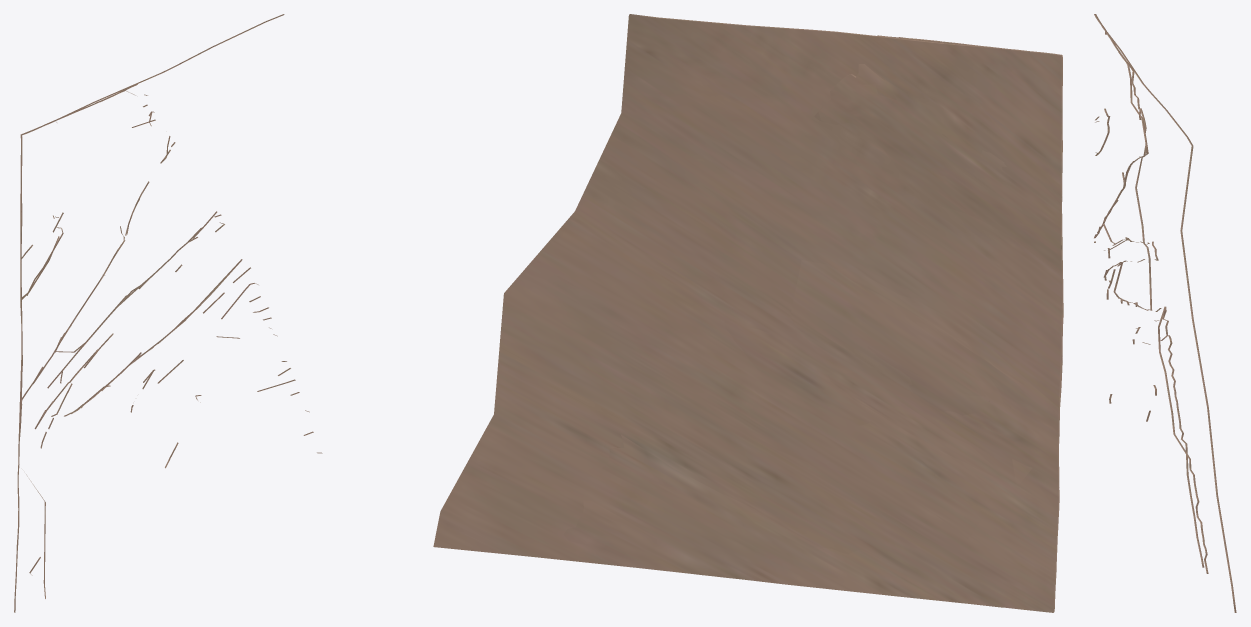
The picture shows the model from 3 angles, left to right: view 1: azimuth 30°, elevation 25°; view 2: azimuth 150°, elevation 25°; view 3: azimuth 270°, elevation 25°; orthographic projection. The views are drawn at different scales.
Size of the model in its own units: 24.26 by 24 by 7.7.
Materials: 1 (1 with a texture image).
